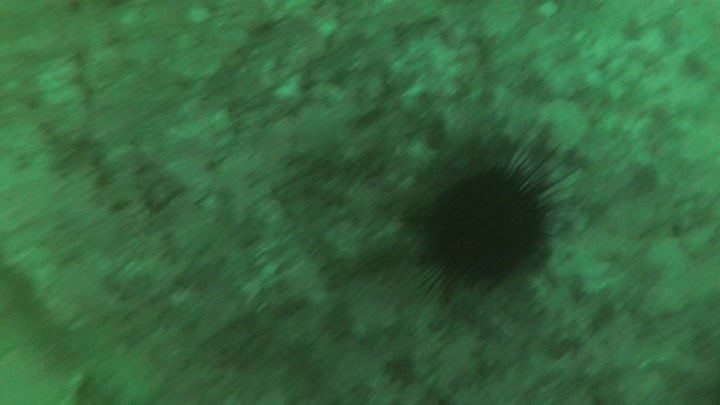echinus: (400, 140, 588, 309)
